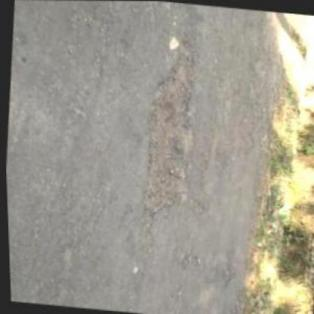Hueco: (131, 36, 205, 221), (218, 242, 235, 286)
